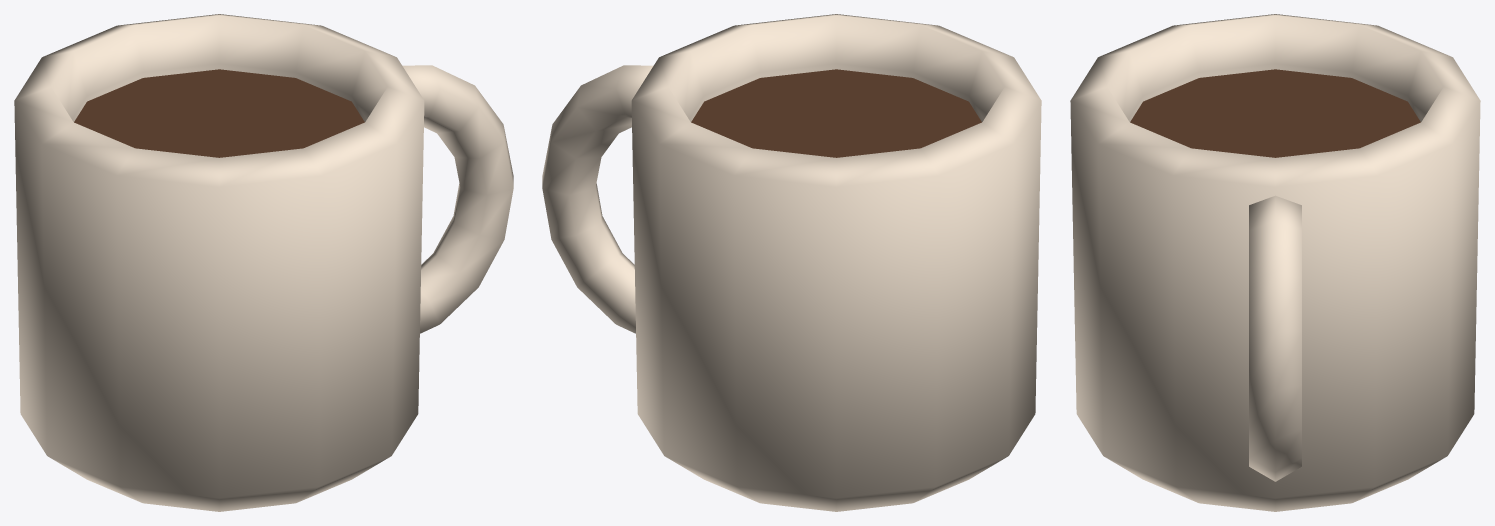
File: mug.glb
3 views of the same model, side by side, from view 1: azimuth 30°, elevation 25°; view 2: azimuth 150°, elevation 25°; view 3: azimuth 270°, elevation 25° (orthographic).
Visible parts, largest first — view 1: mug_cup, mug_coffee, mug_handle; view 2: mug_cup, mug_coffee, mug_handle; view 3: mug_cup, mug_coffee, mug_handle.
Boxes of the visible parts, box(x1,y1,x2,y2) form: mug_cup: box(14, 14, 424, 511); mug_coffee: box(74, 69, 364, 157); mug_handle: box(402, 65, 513, 333); mug_cup: box(631, 14, 1041, 511); mug_coffee: box(691, 69, 981, 157); mug_handle: box(542, 65, 653, 333); mug_cup: box(1070, 14, 1480, 511); mug_coffee: box(1130, 69, 1420, 157); mug_handle: box(1249, 195, 1301, 481).
Size of the model in its own units: 0.178 by 0.13 by 0.134.
